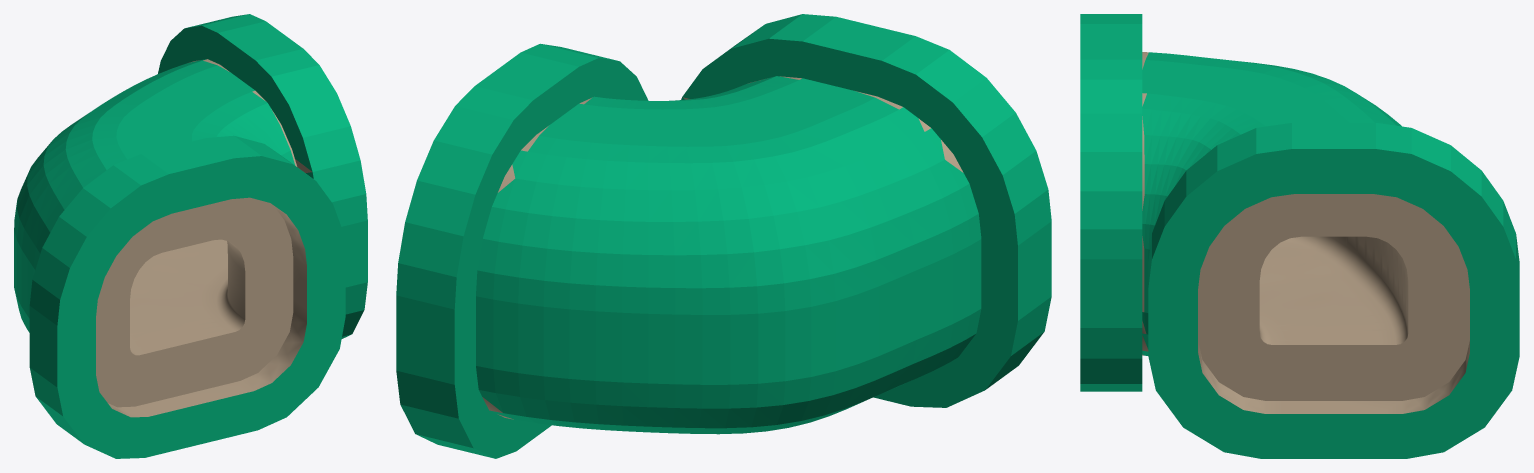
The model's file is TT_P_Turn90.fbx.
3 views of the same model, side by side, from view 1: azimuth 30°, elevation 25°; view 2: azimuth 150°, elevation 25°; view 3: azimuth 270°, elevation 25° (orthographic). The views are drawn at different scales.
Parts seen in each view (by area): view 1: TT_P_Turn90_LOD0; view 2: TT_P_Turn90_LOD0; view 3: TT_P_Turn90_LOD0.
Boxes of the visible parts, bbox=[...] form: TT_P_Turn90_LOD0: bbox=[14, 14, 367, 458]; TT_P_Turn90_LOD0: bbox=[396, 14, 1051, 458]; TT_P_Turn90_LOD0: bbox=[1080, 14, 1519, 458].
Bounding box in the file's own units: 355 × 277 × 355.
